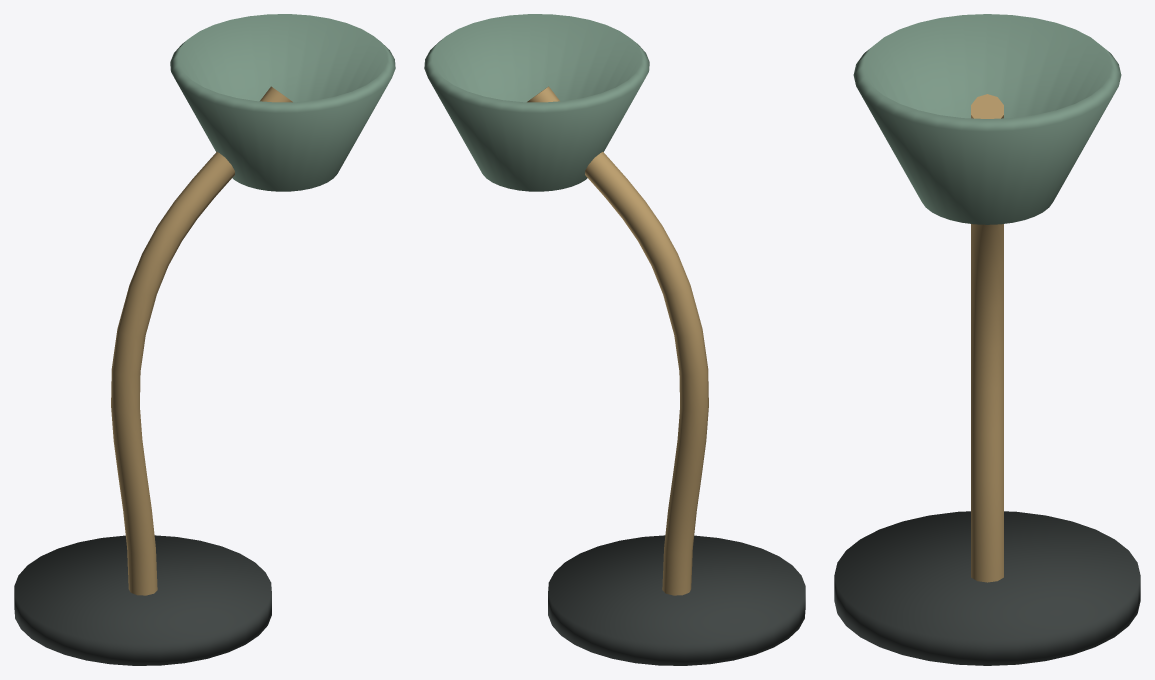
Rendered from sku_v23_desk_lamp.glb.
The picture shows the model from 3 angles, left to right: view 1: azimuth 30°, elevation 25°; view 2: azimuth 150°, elevation 25°; view 3: azimuth 270°, elevation 25°; orthographic projection. The views are drawn at different scales.
Parts seen in each view (by area): view 1: sku_v23_desk_lamp_V23_soft_sage, sku_v23_desk_lamp_V23_ceramic_graphite, sku_v23_desk_lamp_V23_satin_brass; view 2: sku_v23_desk_lamp_V23_soft_sage, sku_v23_desk_lamp_V23_ceramic_graphite, sku_v23_desk_lamp_V23_satin_brass; view 3: sku_v23_desk_lamp_V23_soft_sage, sku_v23_desk_lamp_V23_ceramic_graphite, sku_v23_desk_lamp_V23_satin_brass.
Part boxes in pixels (box(x1,y1,x2,y2)): sku_v23_desk_lamp_V23_soft_sage: box(170, 14, 395, 191); sku_v23_desk_lamp_V23_ceramic_graphite: box(14, 535, 271, 665); sku_v23_desk_lamp_V23_satin_brass: box(111, 86, 292, 595); sku_v23_desk_lamp_V23_soft_sage: box(424, 14, 649, 191); sku_v23_desk_lamp_V23_ceramic_graphite: box(548, 535, 805, 665); sku_v23_desk_lamp_V23_satin_brass: box(527, 86, 708, 595); sku_v23_desk_lamp_V23_soft_sage: box(853, 14, 1121, 224); sku_v23_desk_lamp_V23_ceramic_graphite: box(834, 511, 1140, 665); sku_v23_desk_lamp_V23_satin_brass: box(971, 94, 1003, 582).
Size of the model in its own units: 0.25 by 0.355 by 0.16.
